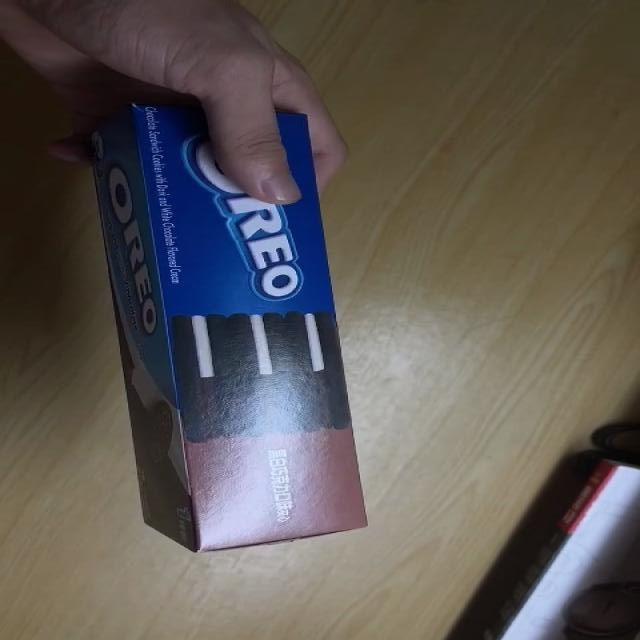Oreo: (88, 99, 369, 554)
